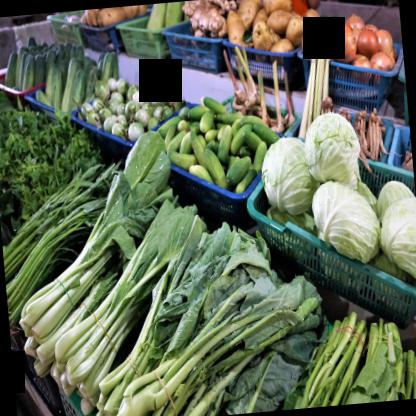cucumber: (206, 146, 228, 194), (188, 126, 209, 172), (202, 94, 228, 118), (244, 128, 266, 152)
onion: (331, 25, 360, 66), (353, 26, 384, 56), (369, 48, 397, 74)
potato: (284, 15, 310, 48), (250, 22, 274, 57), (226, 8, 247, 46), (264, 5, 292, 30), (263, 0, 294, 19)
